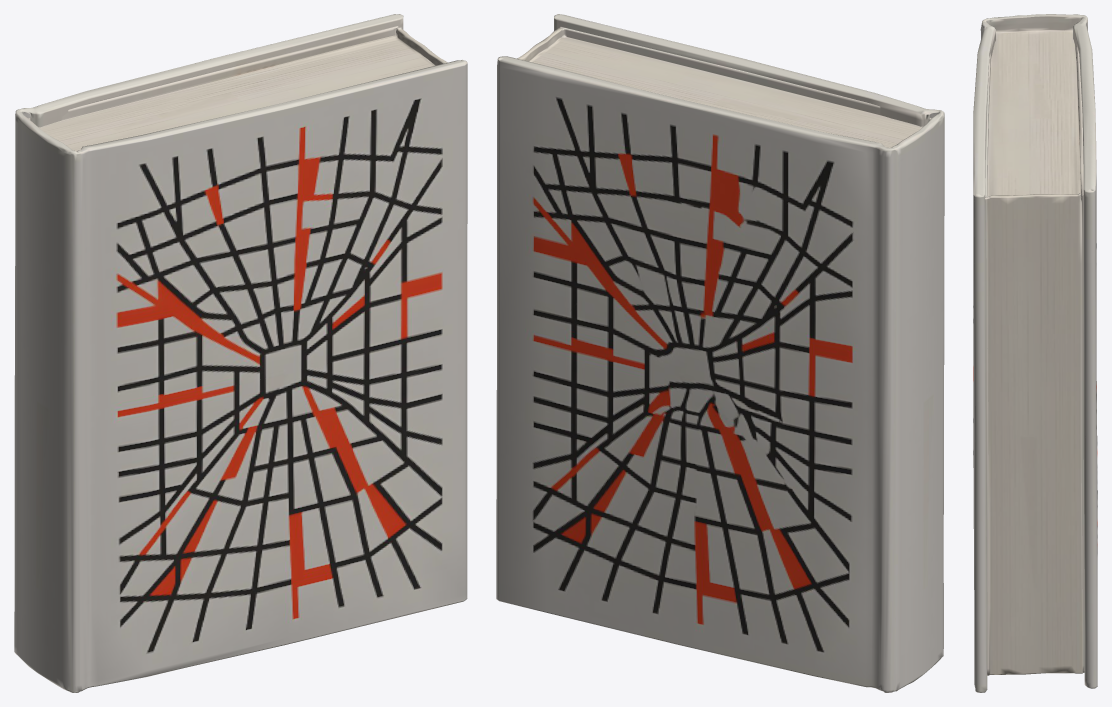
The model's file is the-revolt-of-the-public.glb.
The picture shows the model from 3 angles, left to right: view 1: azimuth 30°, elevation 25°; view 2: azimuth 150°, elevation 25°; view 3: azimuth 270°, elevation 25°; orthographic projection. The views are drawn at different scales.
Visible parts, largest first — view 1: The Revolt of the Public; view 2: The Revolt of the Public; view 3: The Revolt of the Public.
Boxes of the visible parts, bbox=[...] form: The Revolt of the Public: bbox=[14, 14, 467, 692]; The Revolt of the Public: bbox=[496, 14, 944, 692]; The Revolt of the Public: bbox=[973, 14, 1097, 692].
Size of the model in its own units: 0.7676 by 0.998 by 0.2246.
Materials: 1 (1 with a texture image).
